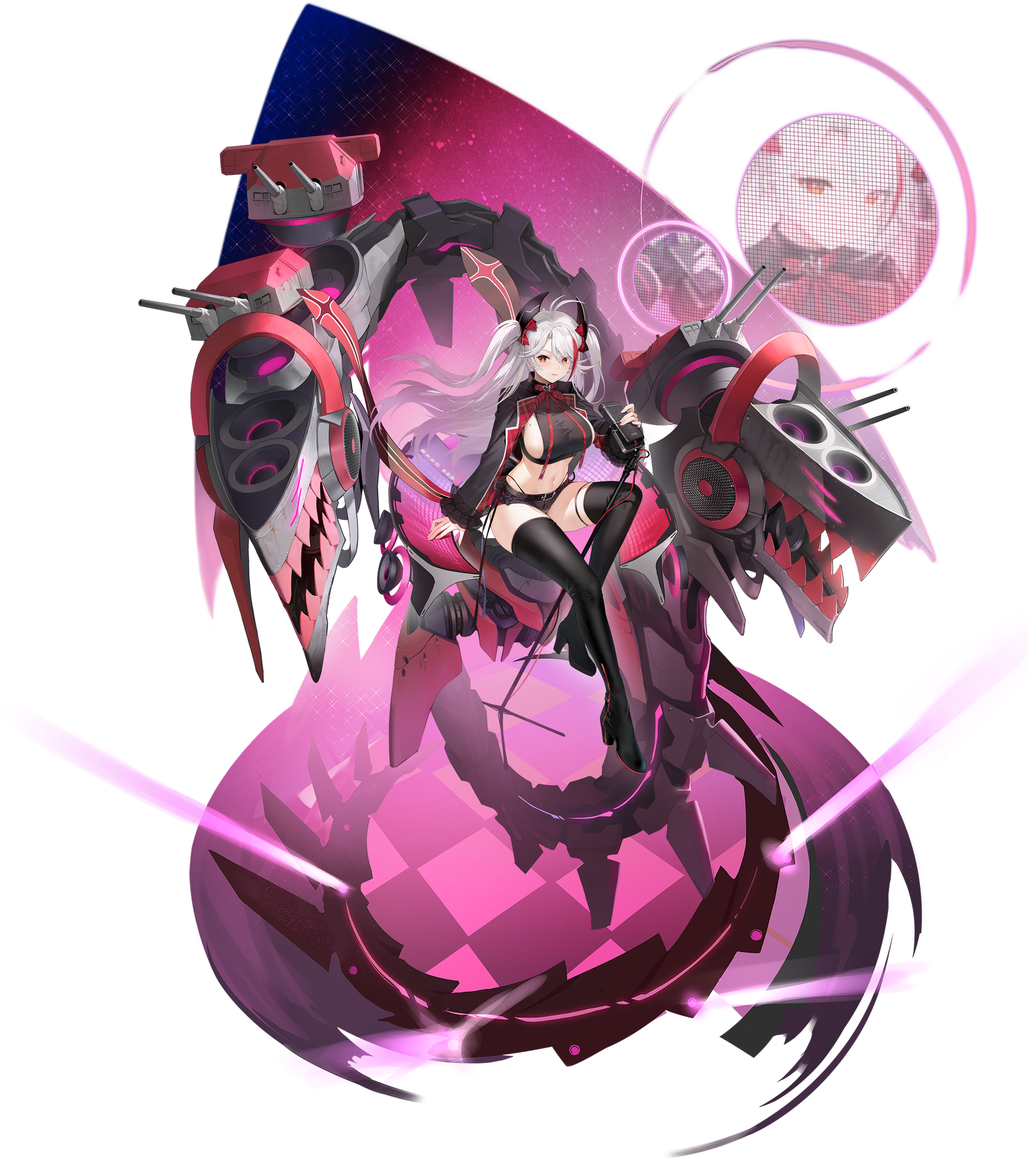person: (387, 257, 713, 819)
